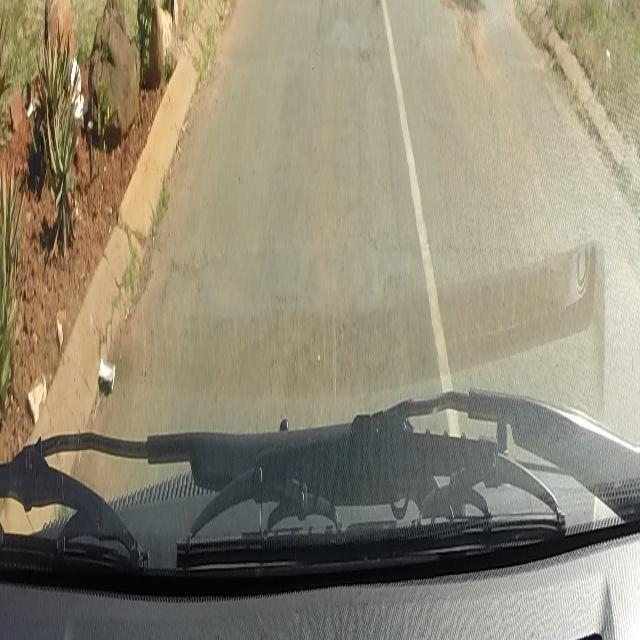pothole: (442, 0, 486, 66)
